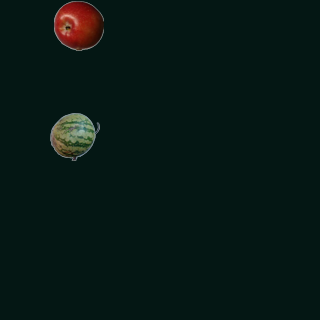Apple Braeburn: (53, 0, 103, 50)
Watermelon: (49, 111, 99, 161)
